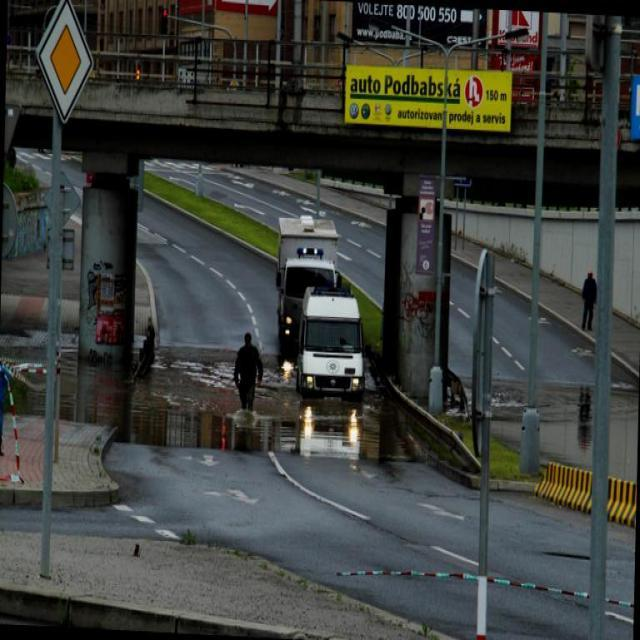flood: (1, 341, 397, 461)
